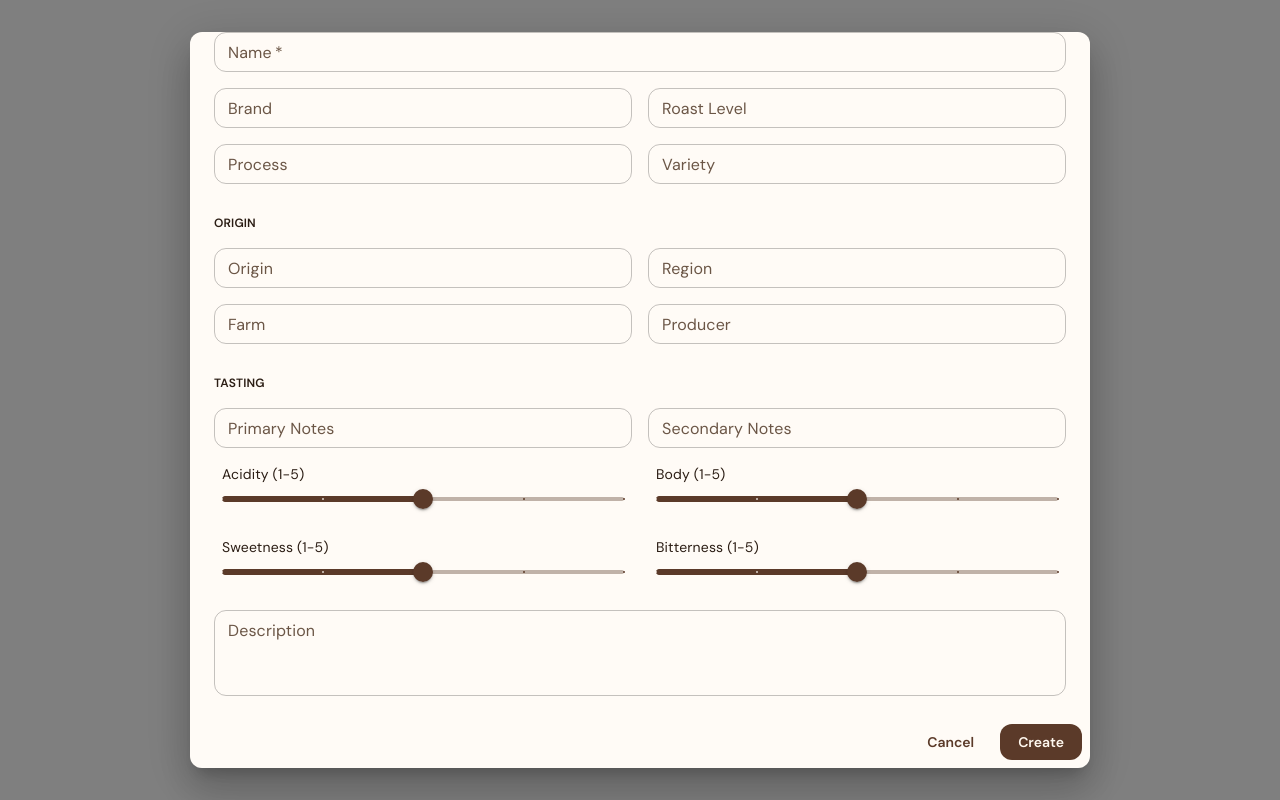
Test: CoffeeFormDialog › blocks submit and shows a required error when name is empty
This screenshot has width=1280, height=800.
(page scrolled)
Click the button "Create" at point(1041, 742), box x1=1000 y1=724 x2=1082 y2=760
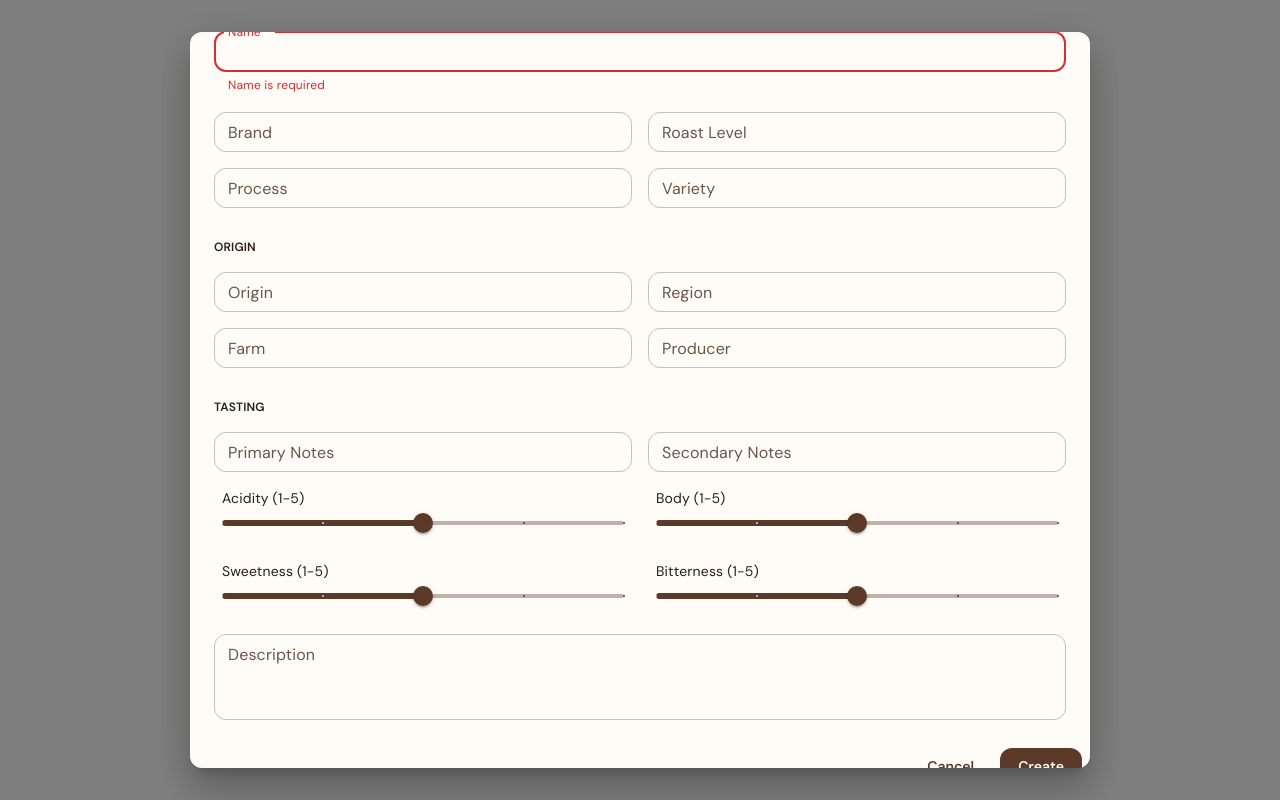
Check: the text "Name is required" is shown, box x1=228 y1=77 x2=325 y2=93
